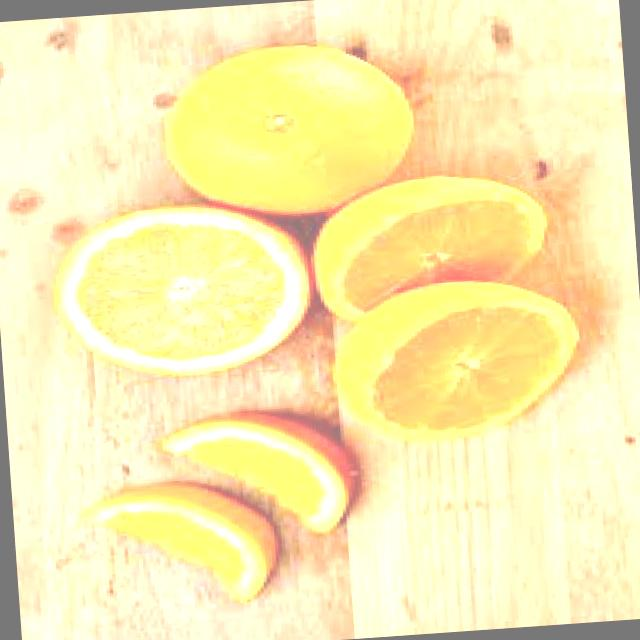Orange: (44, 194, 314, 384), (156, 36, 419, 222), (327, 270, 586, 446), (305, 166, 552, 322), (156, 400, 362, 544), (78, 474, 282, 613)
